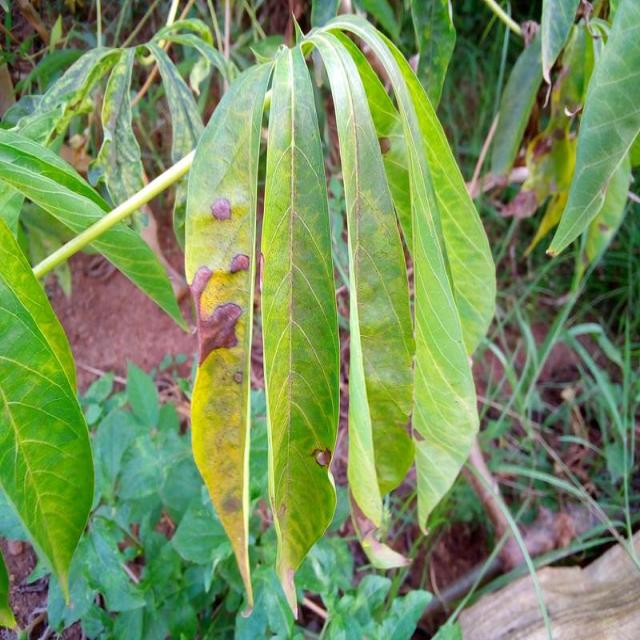cassava leaf: (182, 13, 496, 620), (304, 21, 416, 529), (183, 55, 275, 616), (261, 40, 341, 618), (1, 214, 96, 606), (546, 0, 640, 259)
